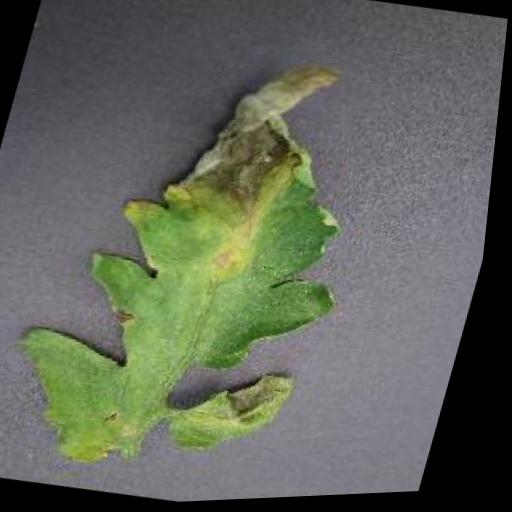Late Blight: (0, 23, 406, 504)
